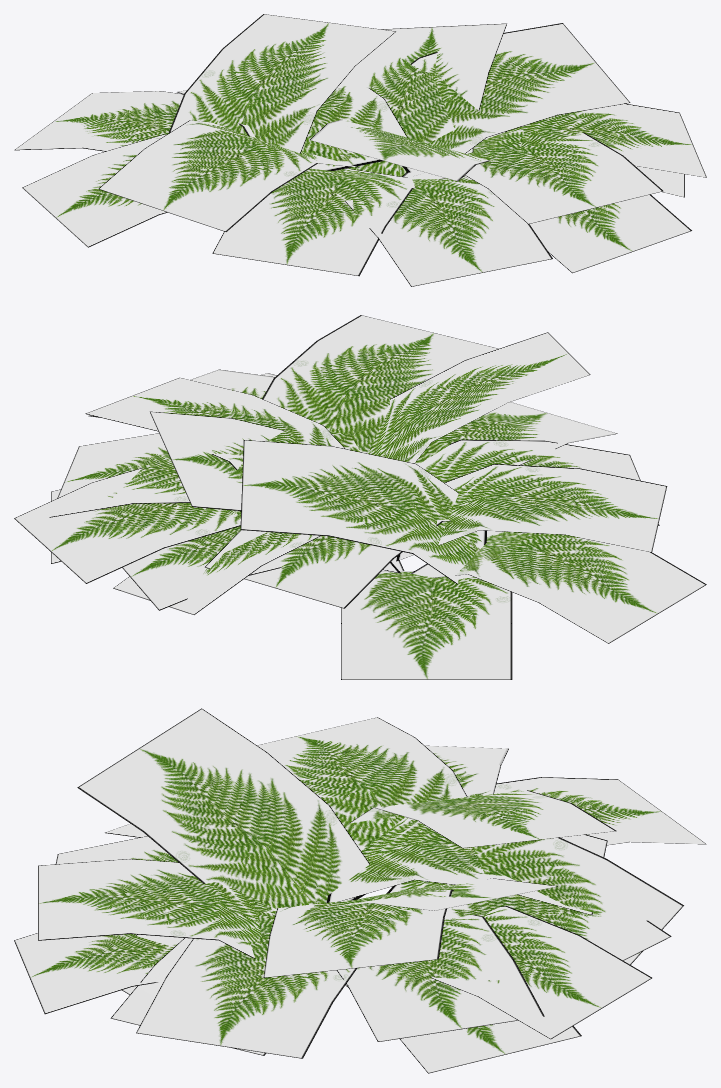
File: fougère_5.FBX
The picture shows the model from 3 angles, top to bottom: view 1: azimuth 30°, elevation 25°; view 2: azimuth 150°, elevation 25°; view 3: azimuth 270°, elevation 25°; orthographic projection. The views are drawn at different scales.
Parts seen in each view (by area): view 1: Plane471; view 2: Plane471; view 3: Plane471.
Part boxes in pixels (<box>): Plane471: <box>14,14,706,286</box>; Plane471: <box>14,315,706,679</box>; Plane471: <box>14,708,706,1073</box>.
Size of the model in its own units: 370 by 93.24 by 338.
